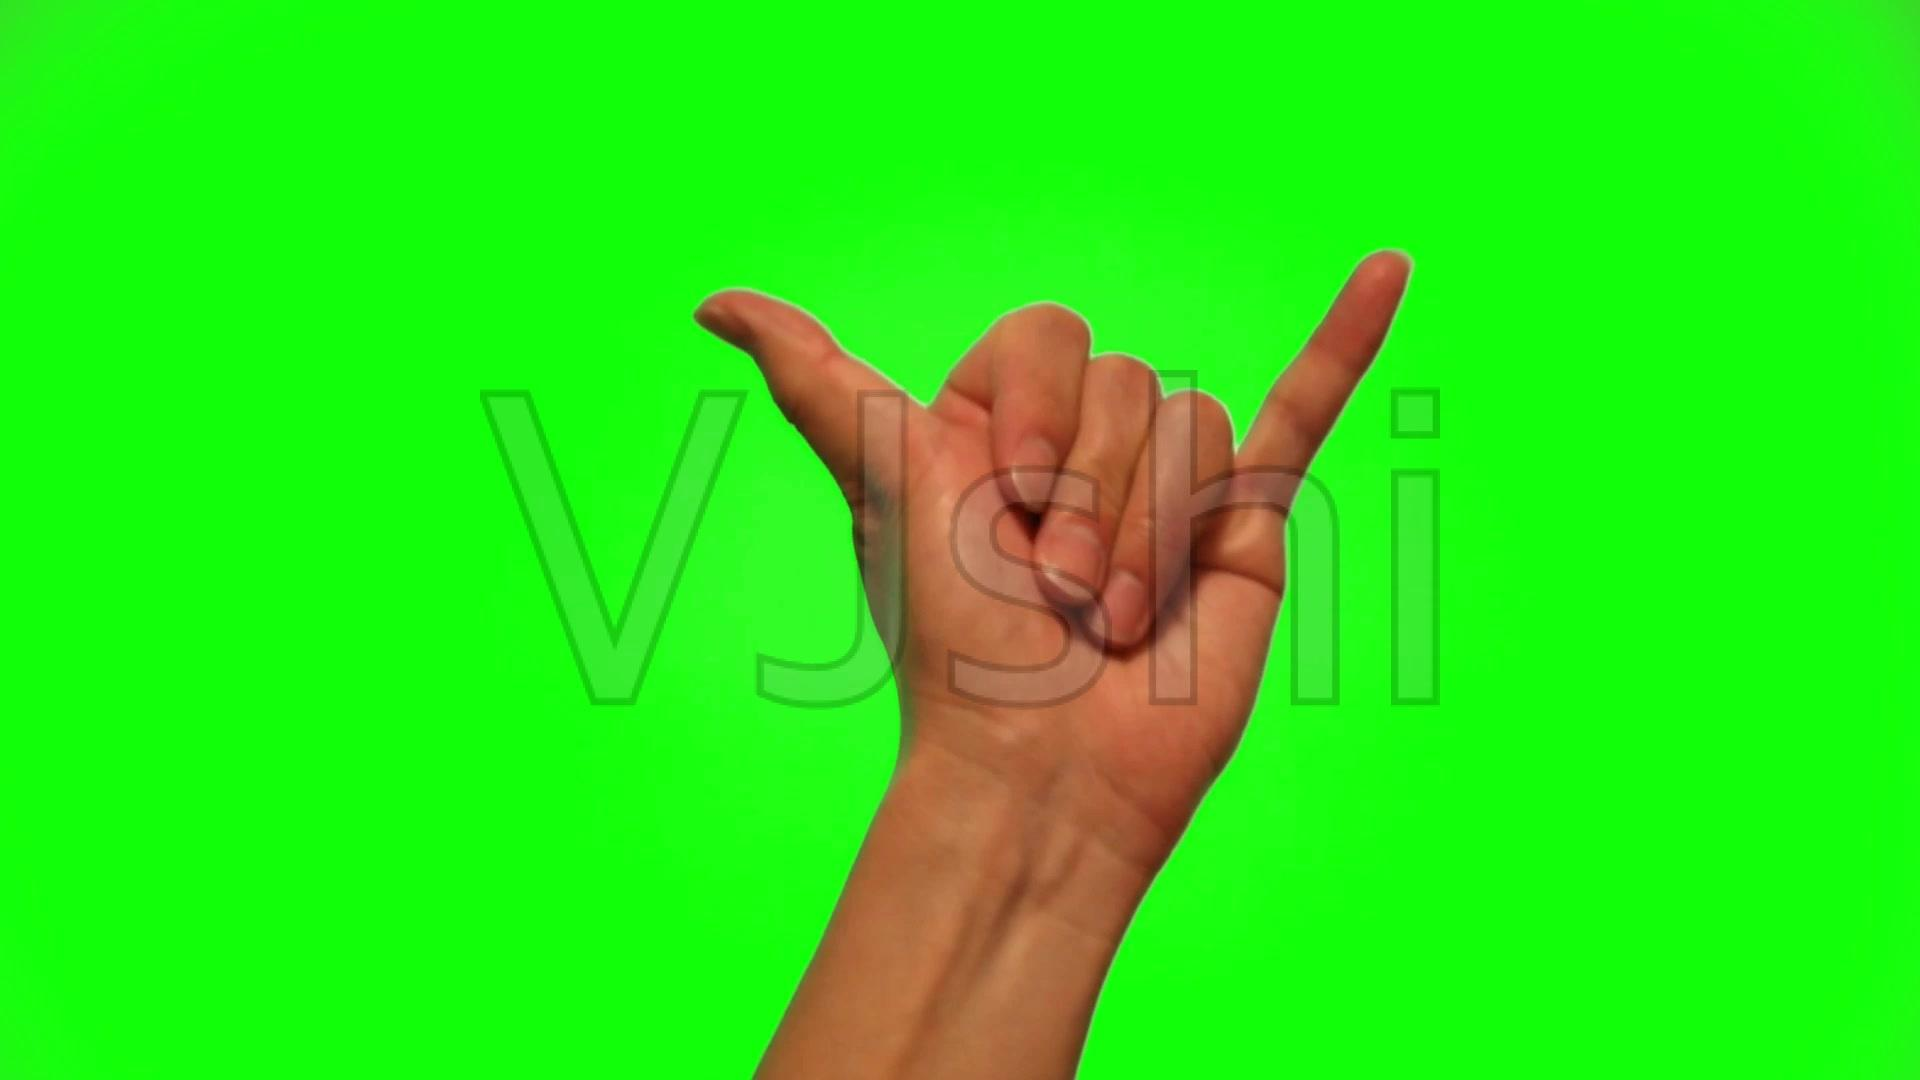clockwise: (694, 239, 1419, 771)
